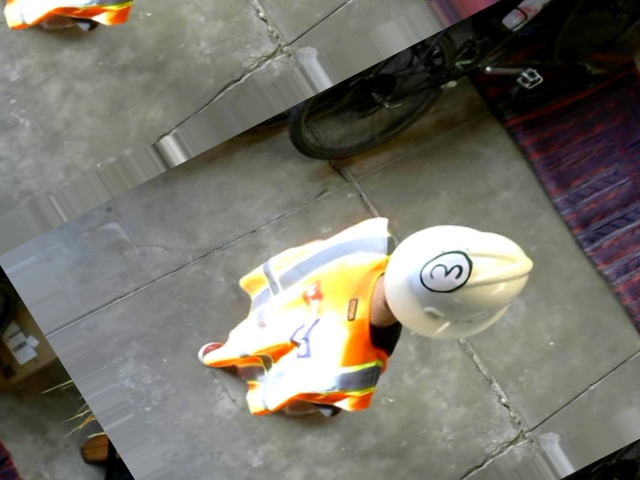three: (411, 244, 480, 302)
